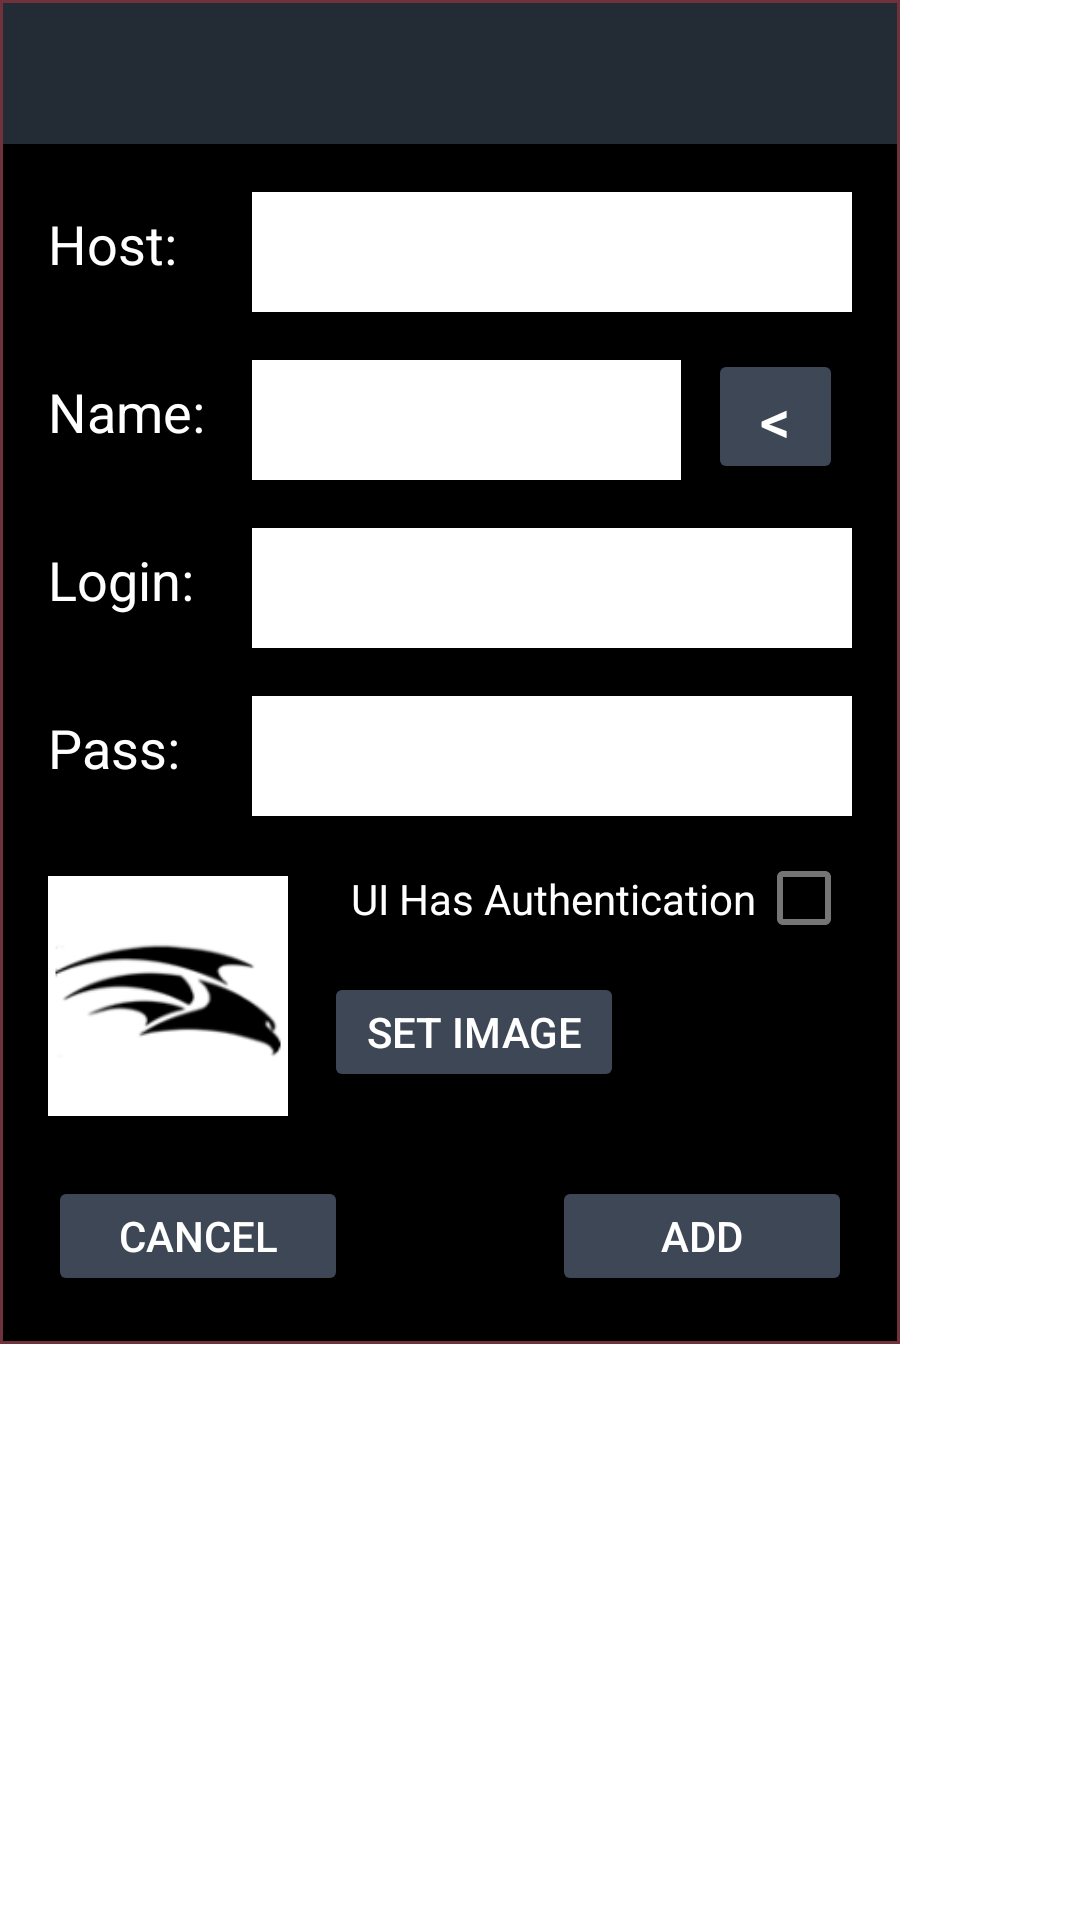

Icon bounding boxes for this 1080px×1920px phone screenshot, format (x1, y1, x2, y2):
falcon: (48, 876, 288, 1116)
